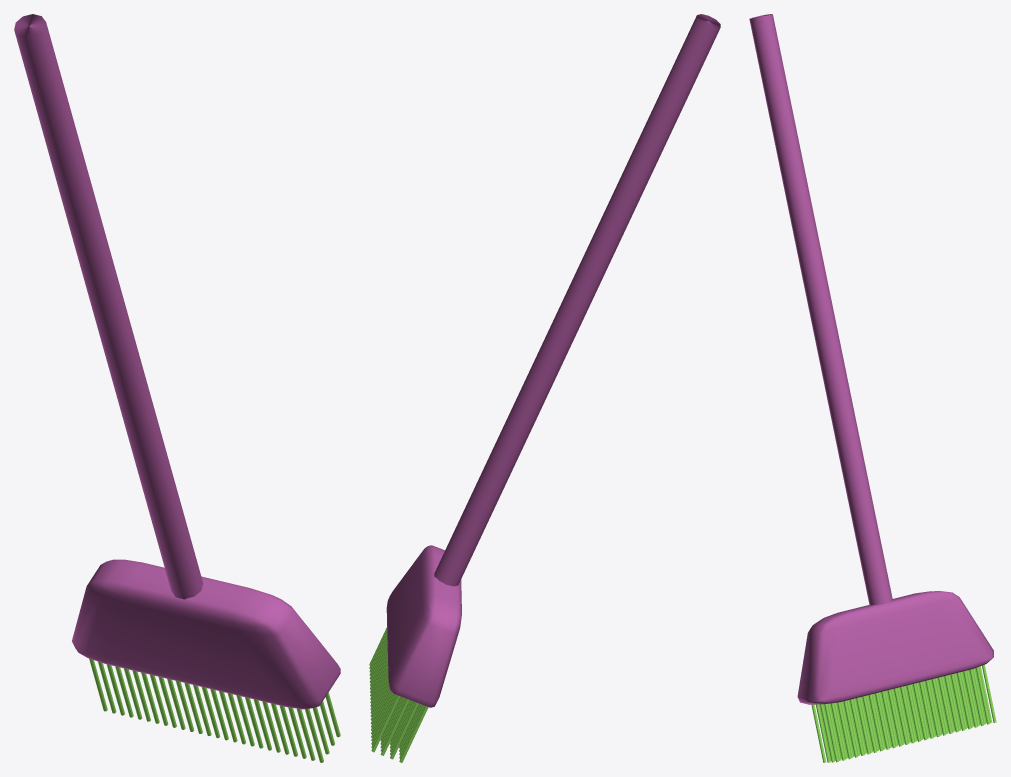
Rendered from Vasoura.glb.
The picture shows the model from 3 angles, left to right: view 1: azimuth 30°, elevation 25°; view 2: azimuth 150°, elevation 25°; view 3: azimuth 270°, elevation 25°; orthographic projection. The views are drawn at different scales.
Visible parts, largest first — view 1: Cylinder; view 2: Cylinder; view 3: Cylinder.
Boxes of the visible parts, x1,y1,x2,y2 form: Cylinder: [14, 14, 340, 762]; Cylinder: [369, 14, 720, 762]; Cylinder: [749, 14, 996, 762].
Size of the model in its own units: 2.9 by 6.33 by 2.25.
